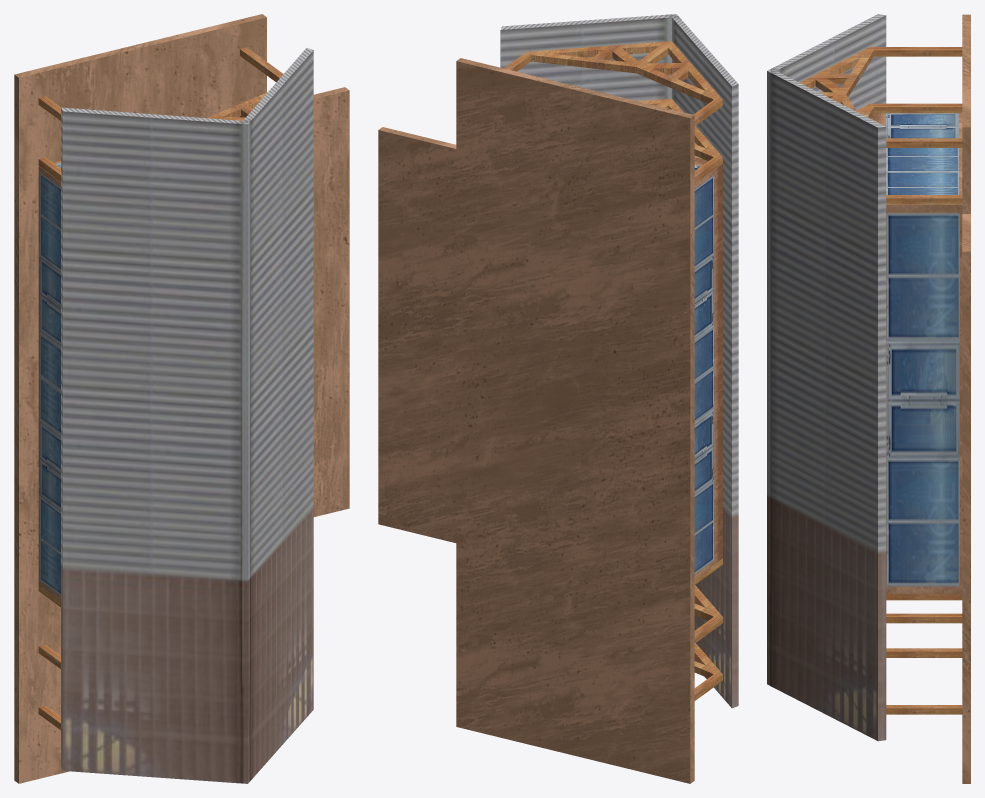
File: YDH_06.gltf
3 views of the same model, side by side, from view 1: azimuth 30°, elevation 25°; view 2: azimuth 150°, elevation 25°; view 3: azimuth 270°, elevation 25° (orthographic). The views are drawn at different scales.
Bounding box in the file's own units: 15.29 × 31.07 × 8.74.
4 materials, 4 textured.
